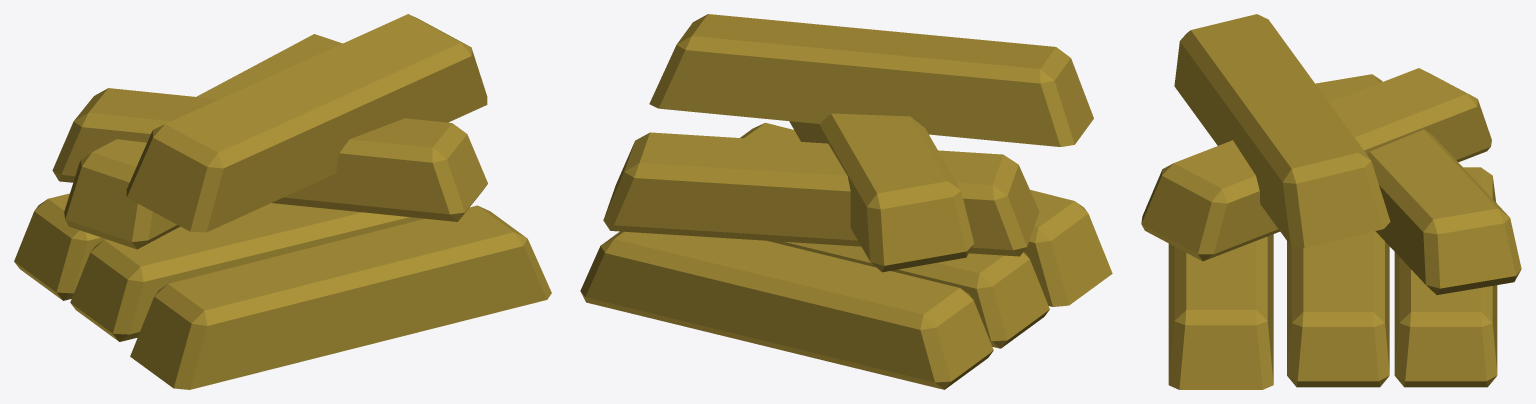
Rendered from Gold Bars færdig.fbx.
The picture shows the model from 3 angles, left to right: view 1: azimuth 30°, elevation 25°; view 2: azimuth 150°, elevation 25°; view 3: azimuth 270°, elevation 25°; orthographic projection. The views are drawn at different scales.
Visible parts, largest first — view 1: Cube; view 2: Cube; view 3: Cube.
Part boxes in pixels (x1,y1,x2,y2): Cube: (14, 14, 551, 389); Cube: (580, 14, 1112, 389); Cube: (1141, 14, 1521, 389).
Size of the model in its own units: 200 by 111 by 176.
